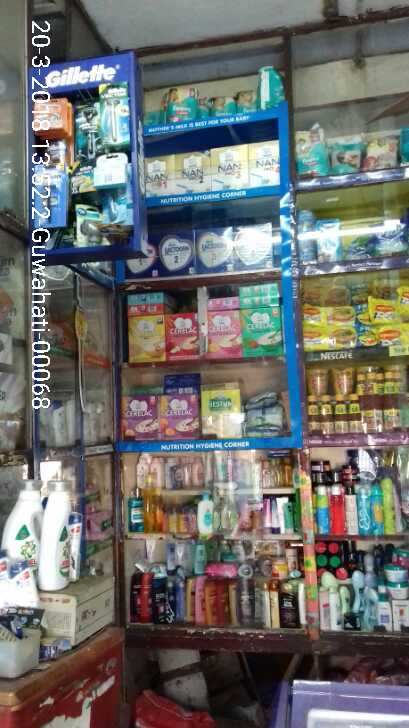beauty: (103, 79, 131, 146), (77, 105, 101, 159)
pharmacy: (291, 125, 327, 185), (328, 135, 362, 175), (163, 84, 199, 121), (256, 65, 287, 106)
